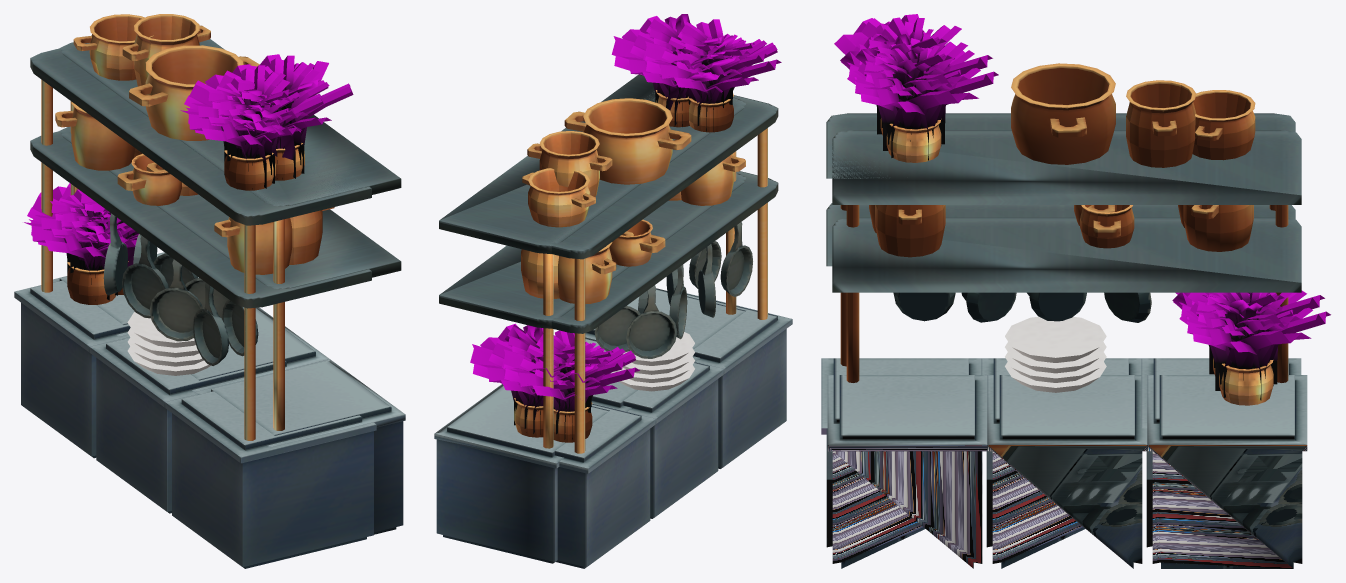
The model's file is geo_Obstacle_Rack_01.FBX.
The picture shows the model from 3 angles, left to right: view 1: azimuth 30°, elevation 25°; view 2: azimuth 150°, elevation 25°; view 3: azimuth 270°, elevation 25°; orthographic projection. The views are drawn at different scales.
Parts seen in each view (by area): view 1: geo_KitchenChunk, geo_KitchenChunk.001; view 2: geo_KitchenChunk, geo_KitchenChunk.001; view 3: geo_KitchenChunk.001, geo_KitchenChunk.
Boxes of the visible parts, x1,y1,x2,y2 form: geo_KitchenChunk: [14, 14, 376, 568]; geo_KitchenChunk.001: [53, 14, 405, 534]; geo_KitchenChunk: [501, 19, 792, 568]; geo_KitchenChunk.001: [434, 14, 749, 563]; geo_KitchenChunk.001: [827, 30, 1330, 568]; geo_KitchenChunk: [821, 14, 1324, 547].
Size of the model in its own units: 523 by 1241 by 1190.
